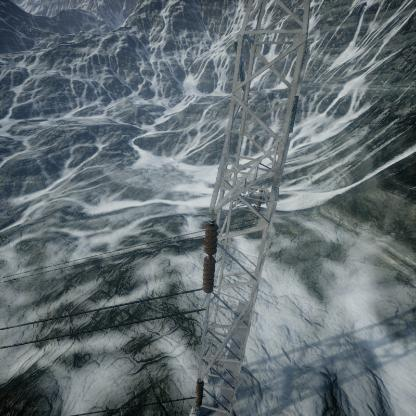insulator: (201, 220, 220, 294), (194, 378, 205, 409)
